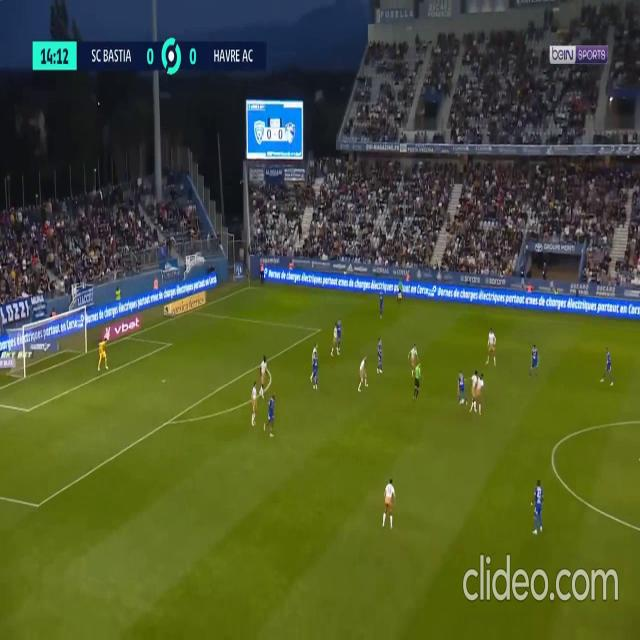goalkeeper: (97, 334, 109, 372)
player: (530, 478, 545, 534), (382, 477, 396, 529), (469, 372, 483, 414), (263, 392, 276, 436), (600, 347, 612, 385), (259, 356, 269, 396), (358, 355, 369, 390), (486, 328, 496, 366), (457, 369, 467, 406), (331, 320, 341, 356), (408, 342, 419, 374), (251, 379, 259, 423), (530, 343, 539, 379), (311, 352, 319, 389), (376, 336, 383, 373), (396, 278, 403, 304), (379, 292, 384, 318)
referee: (412, 360, 421, 400), (397, 277, 403, 304)
